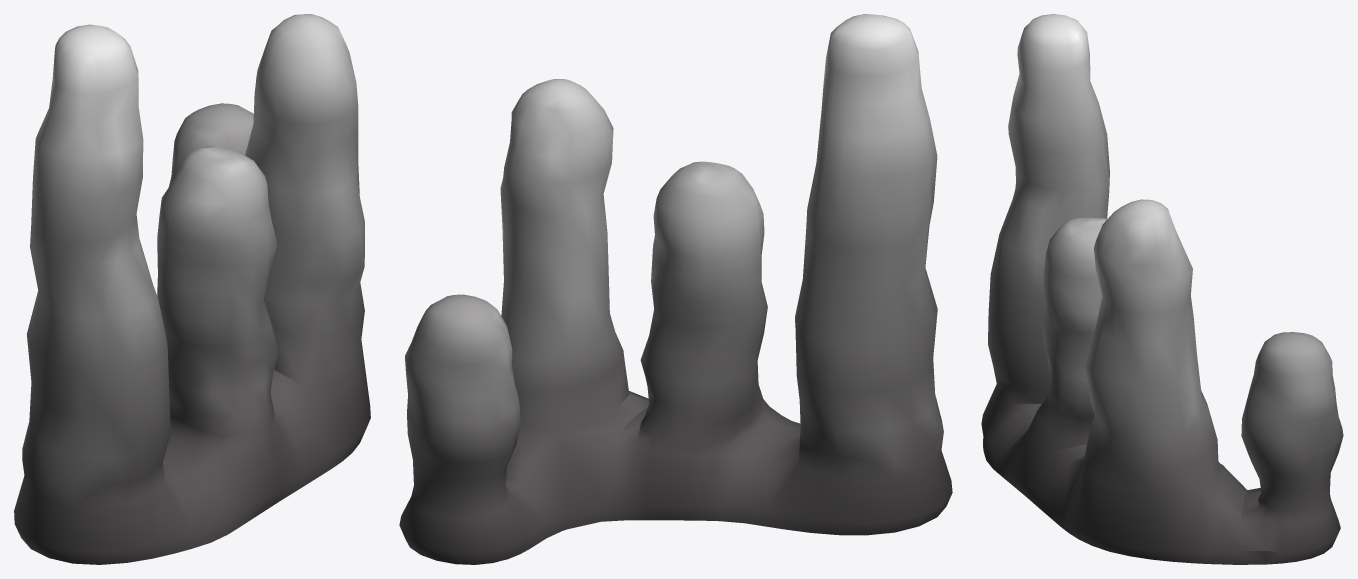
Rendered from dendrogyra-cylindricus.glb.
3 views of the same model, side by side, from view 1: azimuth 30°, elevation 25°; view 2: azimuth 150°, elevation 25°; view 3: azimuth 270°, elevation 25° (orthographic). The views are drawn at different scales.
Visible parts, largest first — view 1: dendrogyra-cylindricus; view 2: dendrogyra-cylindricus; view 3: dendrogyra-cylindricus.
Boxes of the visible parts, <box> form: dendrogyra-cylindricus: <box>14,14,370,564</box>; dendrogyra-cylindricus: <box>399,14,952,564</box>; dendrogyra-cylindricus: <box>981,14,1343,564</box>.
Bounding box in the file's own units: 0.2704 × 0.3157 × 0.2529.
Materials: 1 (1 with a texture image).
